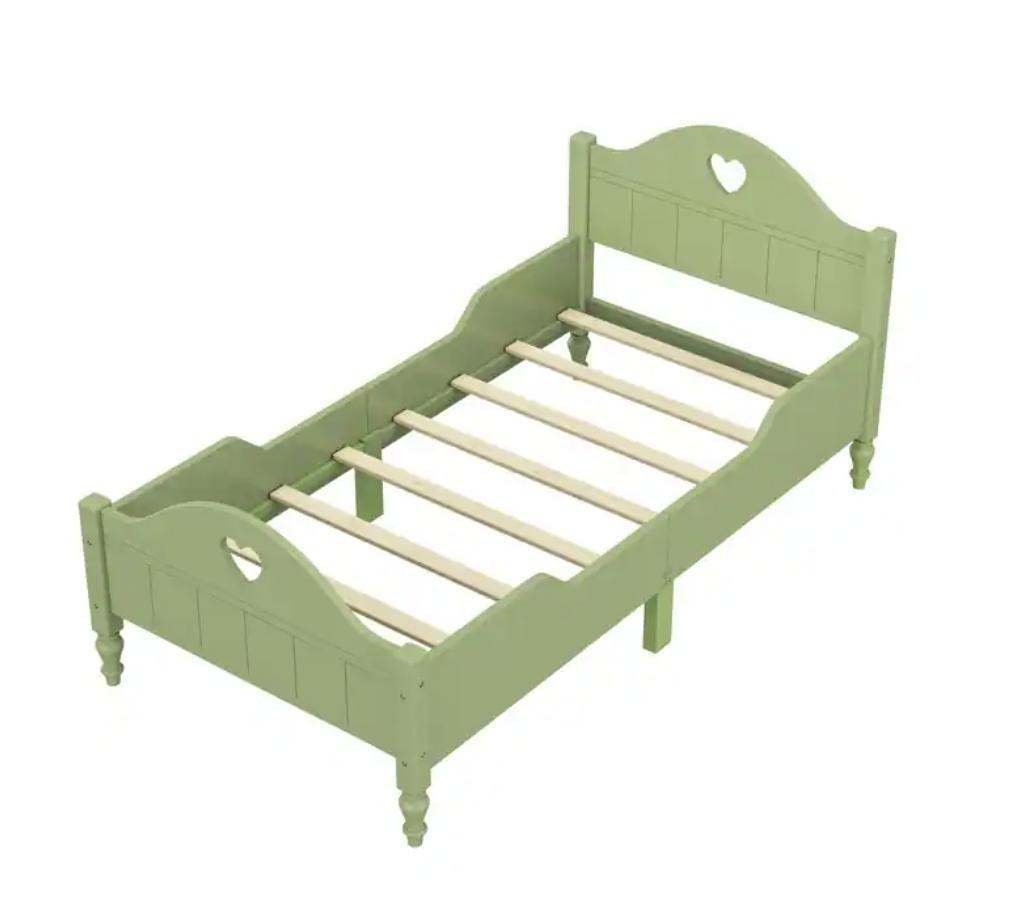Bed-Mattress: (53, 96, 918, 858)
